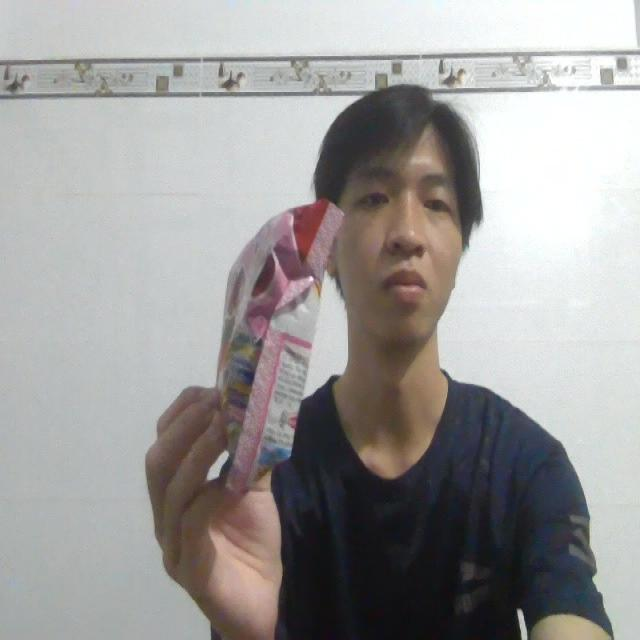mi hao hao: (160, 179, 354, 511)
